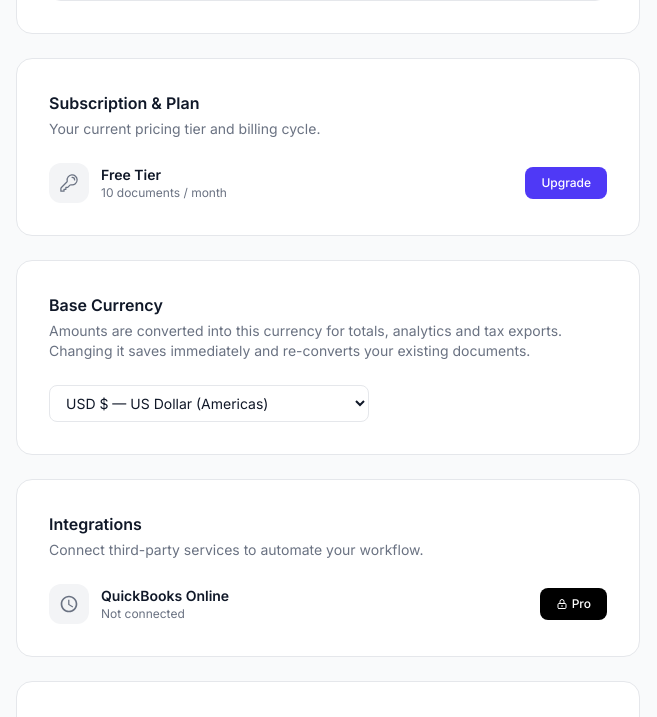
Test case: account page › changes the base currency
(page scrolled)
Select "EUR € — Euro (Europe)" in the dropdown named "Base currency" at [209, 404], box [49,385,369,422]
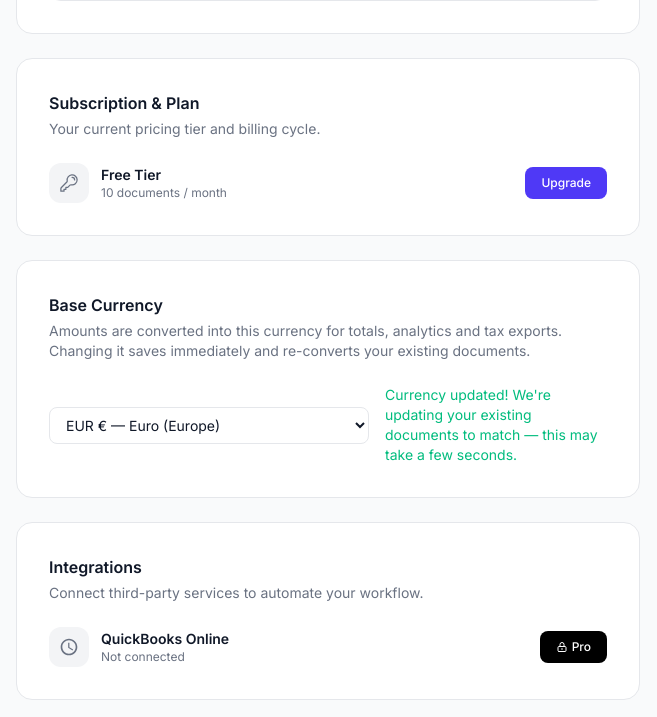
Expected: the message shows "Currency updated!", [385,386,598,463]
